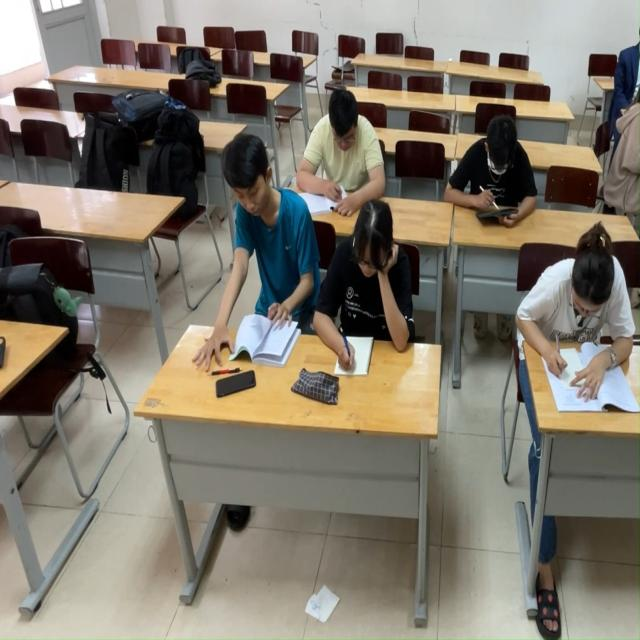read: (508, 216, 640, 437), (312, 208, 421, 382), (296, 72, 388, 211), (448, 114, 546, 228)
